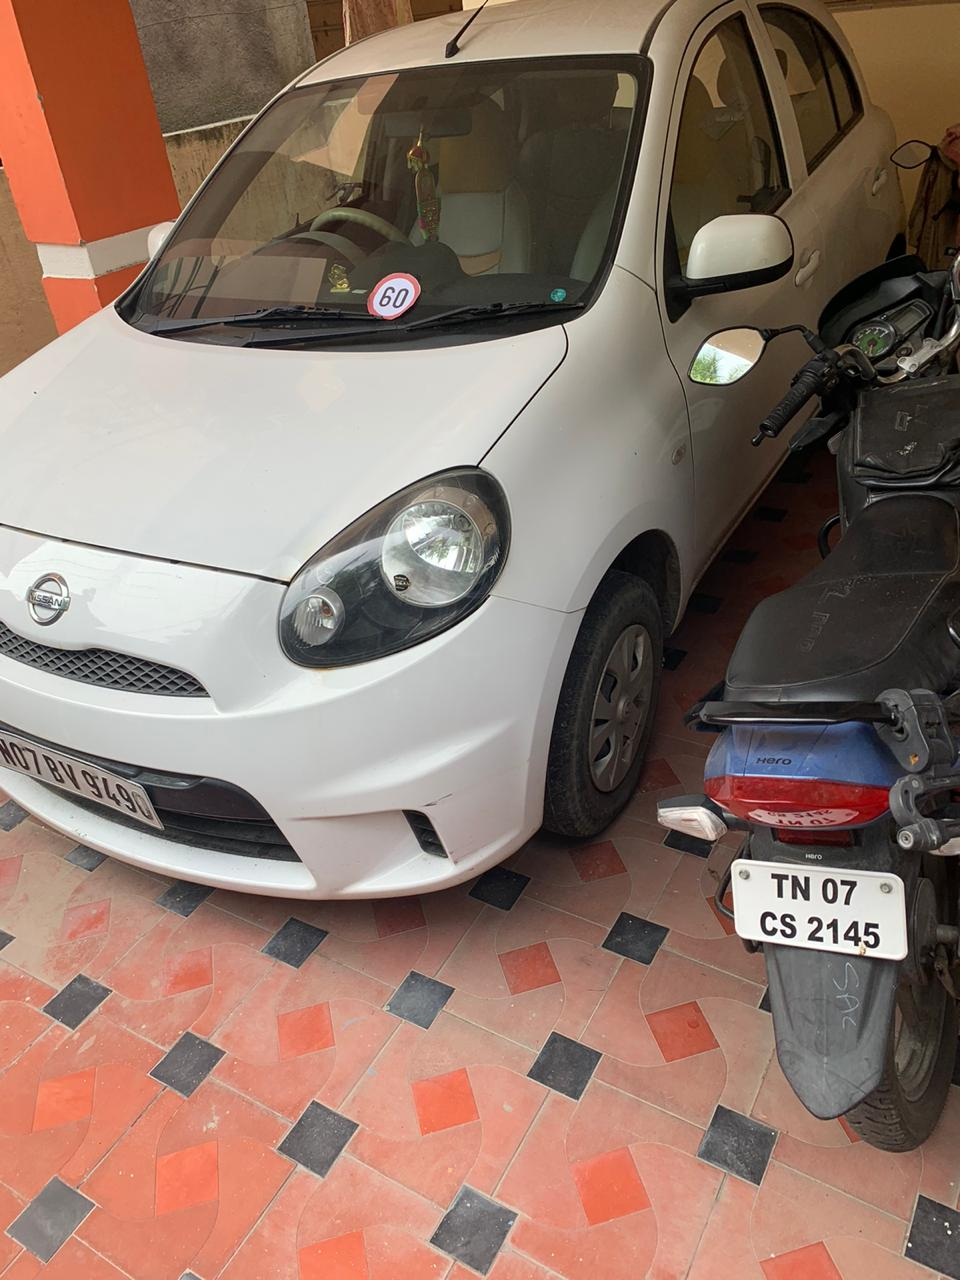SPEED LIMIT (60 KM/H): (334, 242, 457, 335)
